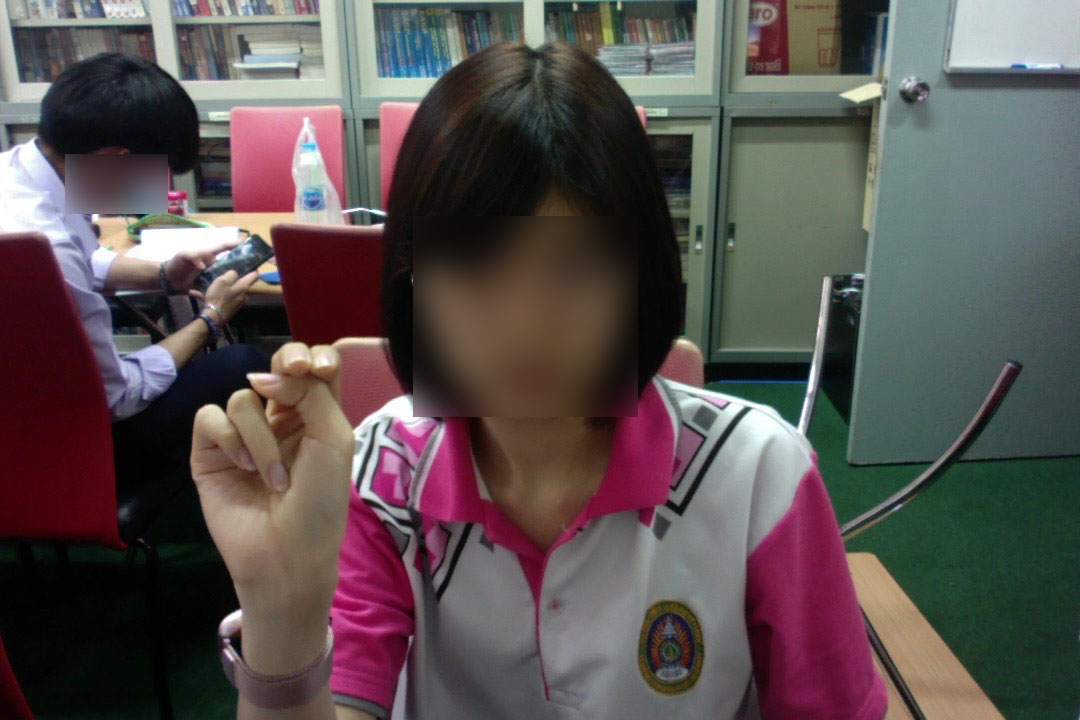nor: (176, 334, 363, 616)
